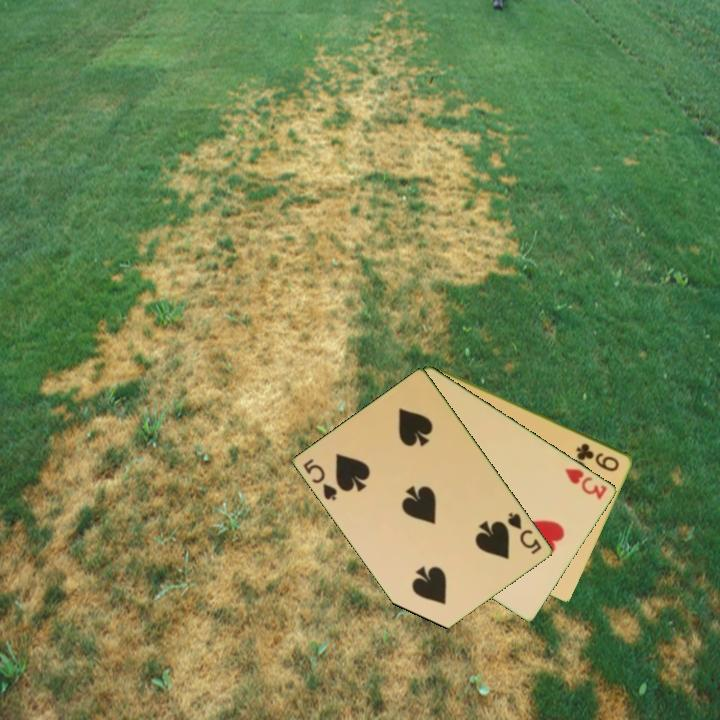3h: (562, 465, 610, 502)
5s: (300, 455, 341, 504), (504, 509, 545, 557)
9c: (573, 439, 623, 474)
